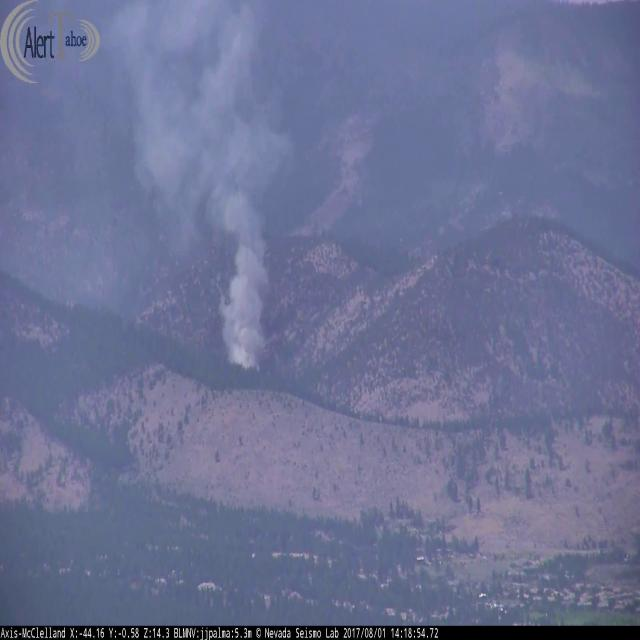smoke: (112, 0, 294, 382)
